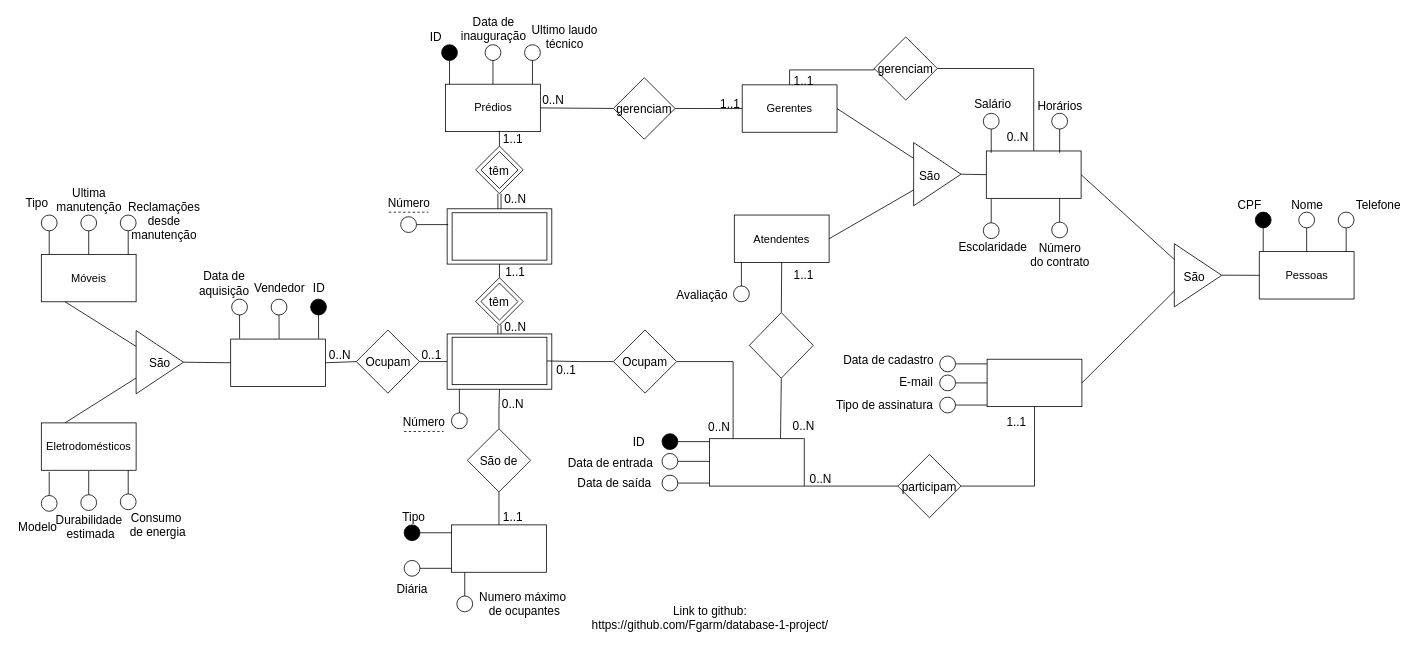
The diagram is 1419 pixels wide and 647 high, and some of its shapes have lost their labels. The shapes that lost their labels are listed below. From the top down, each one's box as (x1, y1, x2, y2) in pixels, then its label:
(986, 150, 1081, 198): Funcionários
(451, 212, 547, 260): Andares
(230, 338, 325, 386): Mobília
(451, 336, 547, 385): Quartos
(749, 312, 813, 378): gera
(986, 358, 1082, 407): Clientes
(709, 438, 804, 486): Reserva
(451, 524, 546, 572): Categorias
